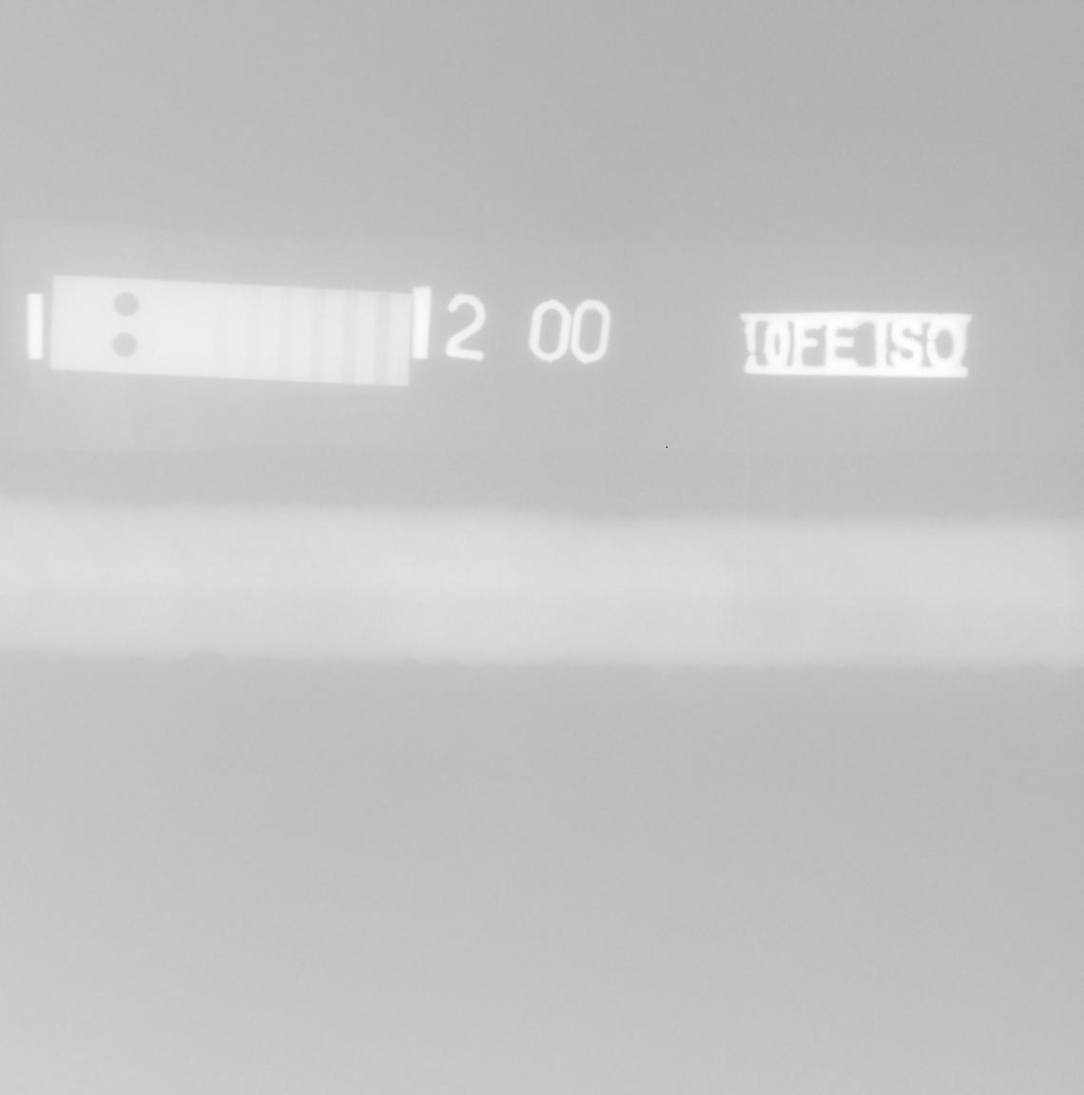Reference Standard 2: (50, 273, 412, 388)
